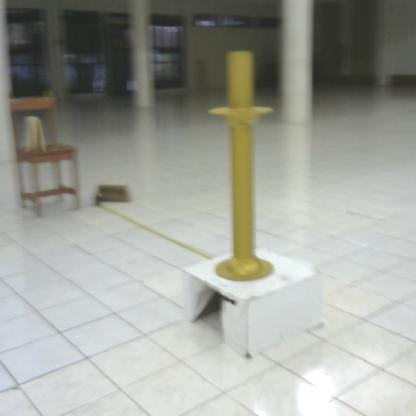pole: (210, 48, 280, 286)
